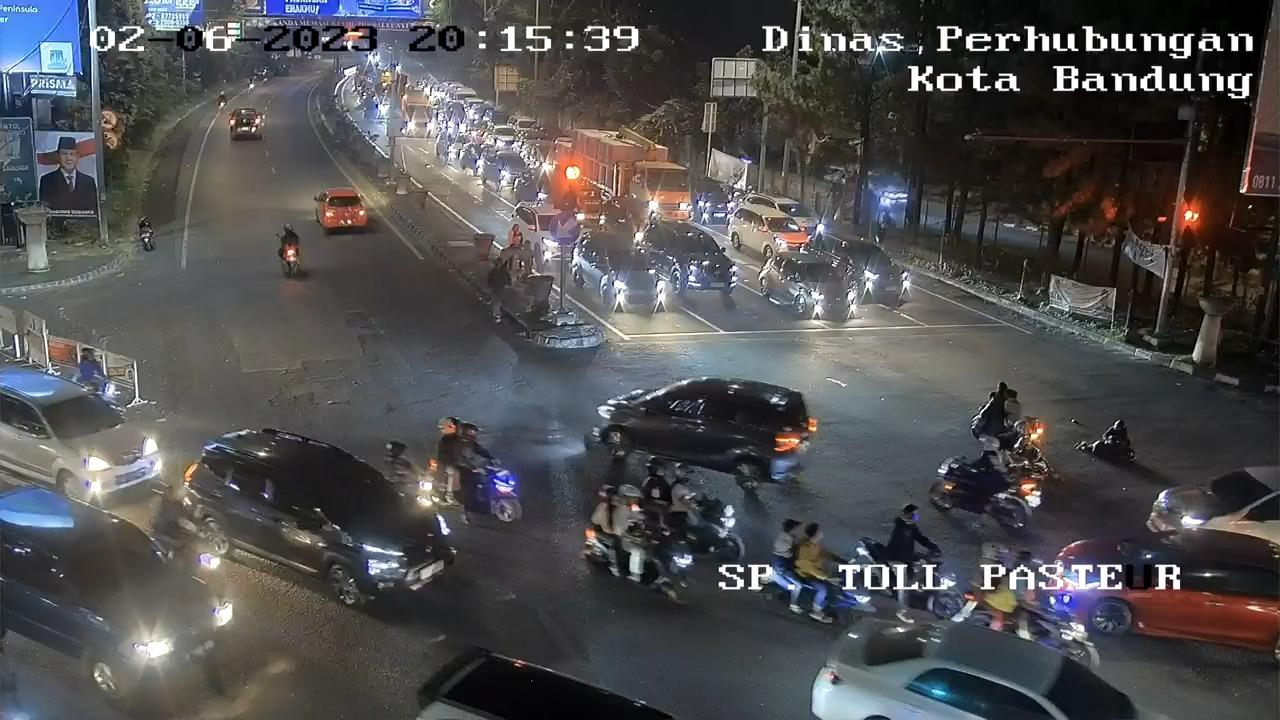accident: (1074, 420, 1138, 462)
